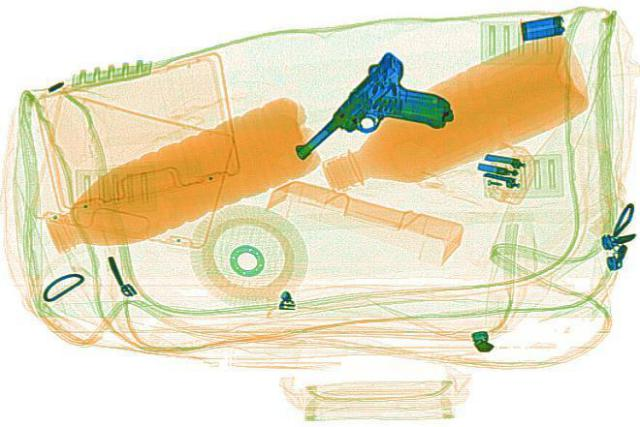Gun: (284, 50, 482, 186)
